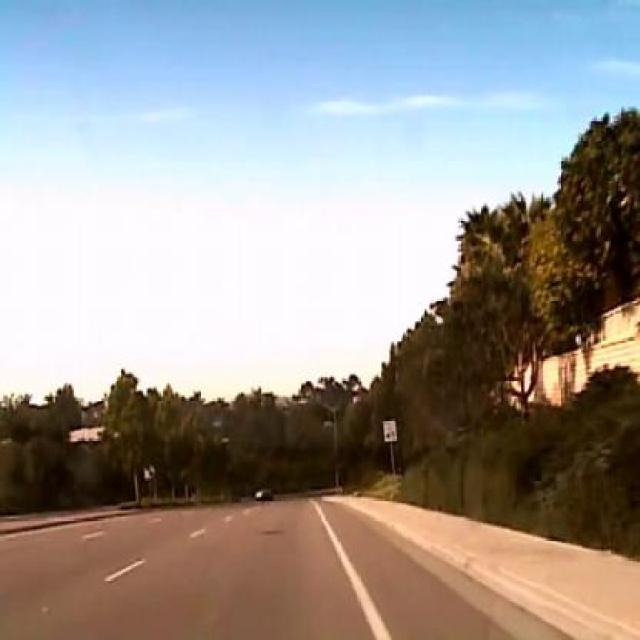speedLimitUrdbl: (381, 419, 397, 441)
